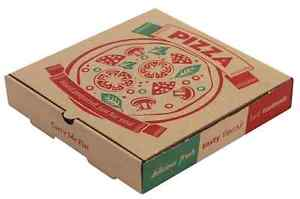Rec_Paper: (4, 6, 300, 188)
